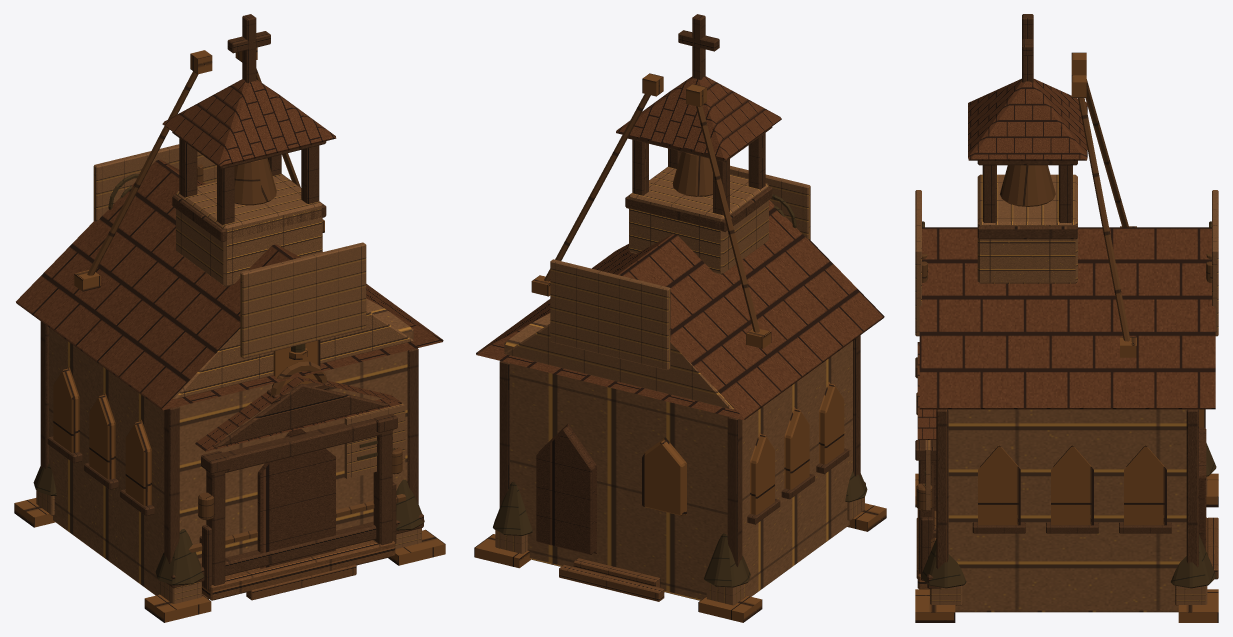
Rendered from chapel.e7.glb.
3 views of the same model, side by side, from view 1: azimuth 30°, elevation 25°; view 2: azimuth 150°, elevation 25°; view 3: azimuth 270°, elevation 25° (orthographic). The views are drawn at different scales.
Parts seen in each view (by area): view 1: ChapelE7; view 2: ChapelE7; view 3: ChapelE7.
Boxes of the visible parts, bbox=[...] form: ChapelE7: bbox=[14, 14, 445, 622]; ChapelE7: bbox=[474, 14, 886, 622]; ChapelE7: bbox=[915, 14, 1218, 622].
Size of the model in its own units: 3.46 by 6.25 by 3.19.
1 material, 1 textured.
